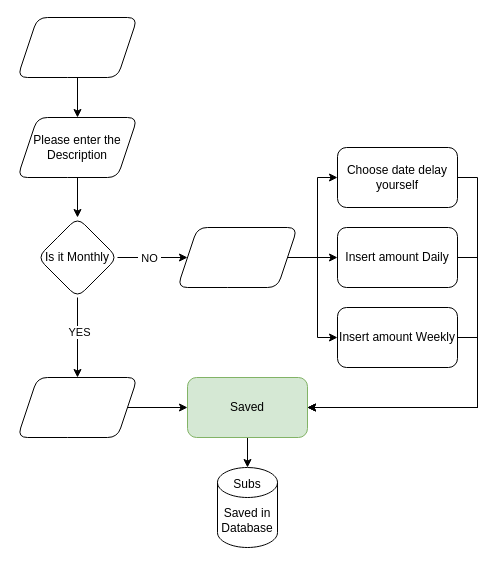
The diagram is 503 pixels wide and 580 high, and some of its shapes have lost their labels. The box of each missing label's shape, as (x1, y1, x2, y2) in pixels:
Please Choose one the following options: (176, 226, 298, 288)
Please enter the monthly Amount: (16, 376, 138, 438)
Please enter the Subscription Name: (16, 16, 138, 78)
